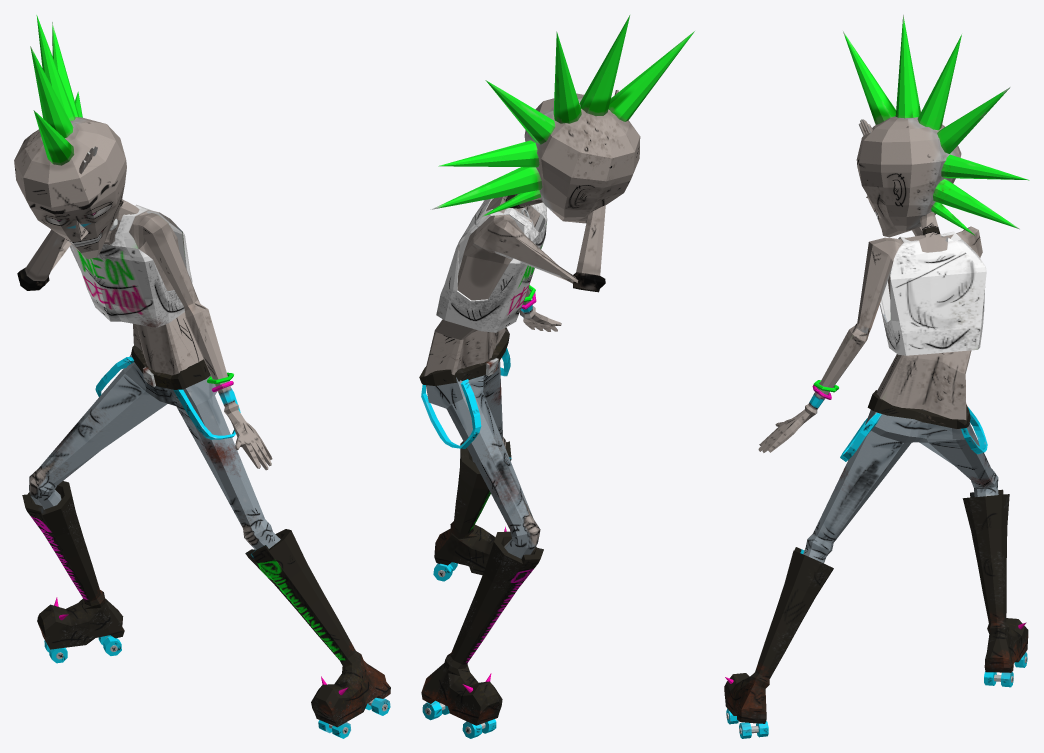
File: punkAnimation_000046.obj
3 renders of one model, left to right at view 1: azimuth 30°, elevation 25°; view 2: azimuth 150°, elevation 25°; view 3: azimuth 270°, elevation 25°, orthographic. The views are drawn at different scales.
Visible parts, largest first — view 1: Cube.004_Cube.003; view 2: Cube.004_Cube.003; view 3: Cube.004_Cube.003.
Boxes of the visible parts, left/top/right/bottom form: Cube.004_Cube.003: left=14, top=15, right=390, bottom=738; Cube.004_Cube.003: left=419, top=15, right=694, bottom=738; Cube.004_Cube.003: left=724, top=15, right=1029, bottom=738.
Bounding box in the file's own units: 3.14 × 6.72 × 3.03.
